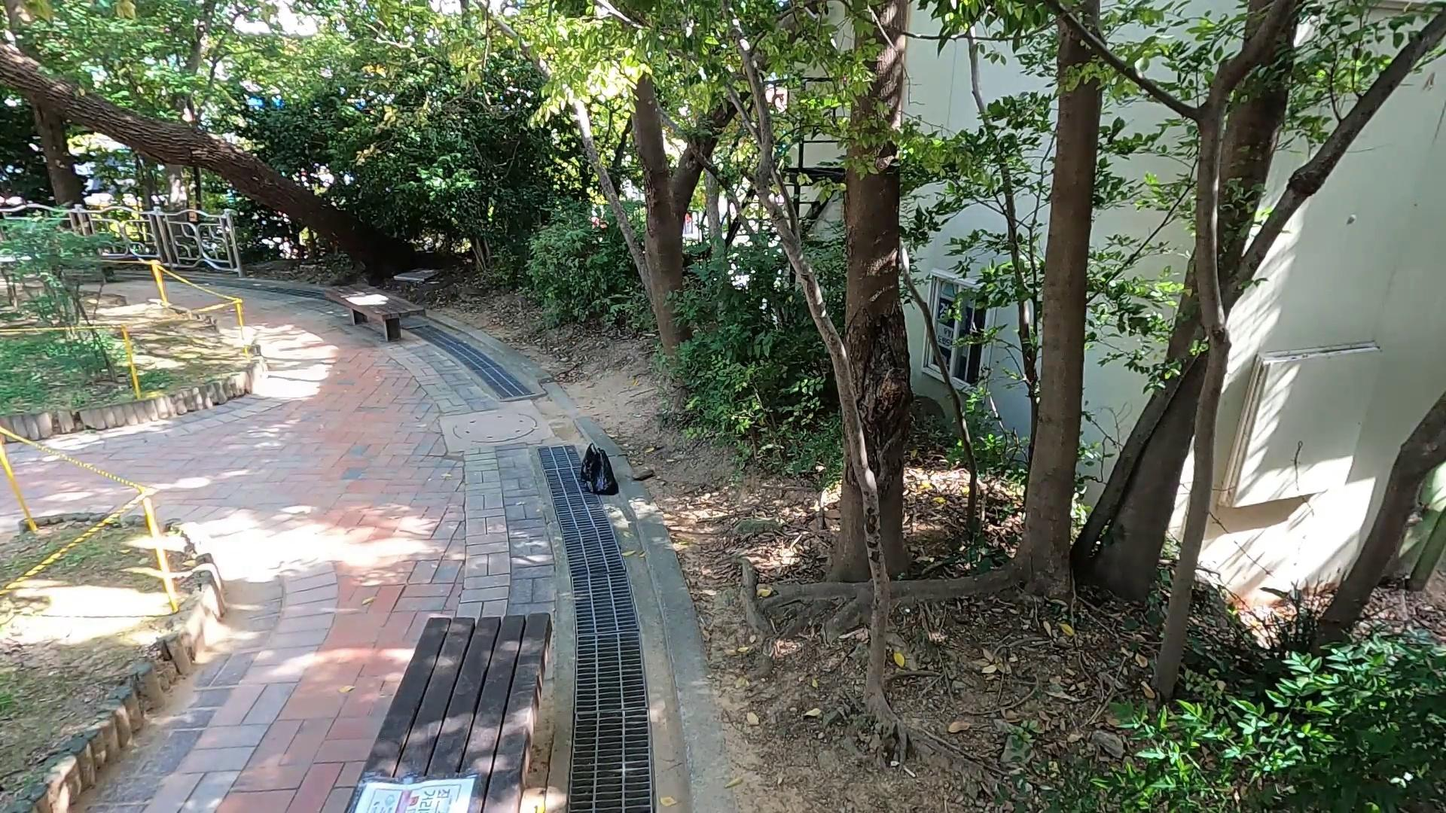trash: (576, 440, 620, 504)
